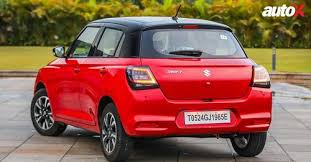Swift: (27, 6, 274, 160)
